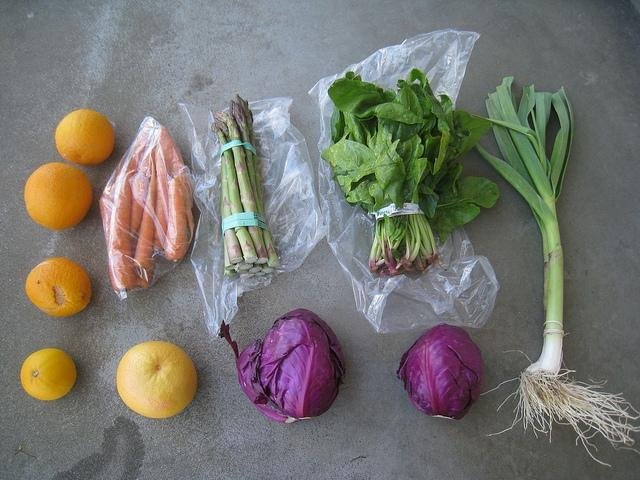asparagus: (214, 110, 269, 264), (211, 123, 258, 264), (221, 152, 243, 264), (220, 184, 236, 271), (262, 228, 280, 268), (238, 241, 254, 270), (248, 263, 264, 274), (262, 262, 274, 274)
carrot: (109, 168, 137, 292), (159, 128, 193, 208), (134, 156, 156, 271), (165, 178, 188, 260), (154, 149, 168, 250), (129, 174, 149, 241), (138, 138, 157, 183), (99, 196, 113, 250), (130, 140, 148, 170)
green onion: (472, 76, 640, 467)
orange: (116, 340, 198, 419), (24, 162, 93, 230), (25, 258, 91, 316), (55, 109, 115, 166), (20, 348, 77, 400)
